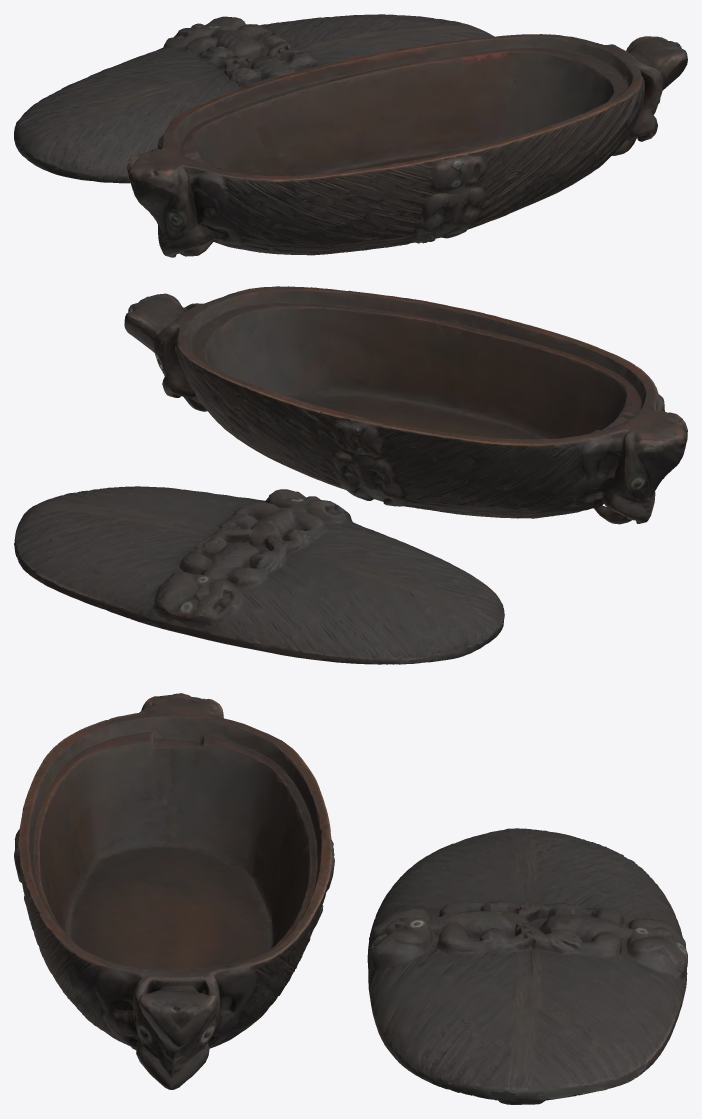
Rendered from preview.glb.
The picture shows the model from 3 angles, top to bottom: view 1: azimuth 30°, elevation 25°; view 2: azimuth 150°, elevation 25°; view 3: azimuth 270°, elevation 25°; orthographic projection. The views are drawn at different scales.
Visible parts, largest first — view 1: ADVIMG_1979_206_1439ab_MaoriBox_Lid_n3d; view 2: ADVIMG_1979_206_1439ab_MaoriBox_Lid_n3d; view 3: ADVIMG_1979_206_1439ab_MaoriBox_Lid_n3d.
Boxes of the visible parts, box(x1,y1,x2,y2) form: ADVIMG_1979_206_1439ab_MaoriBox_Lid_n3d: box(14, 14, 687, 257); ADVIMG_1979_206_1439ab_MaoriBox_Lid_n3d: box(14, 286, 687, 664); ADVIMG_1979_206_1439ab_MaoriBox_Lid_n3d: box(14, 693, 687, 1104).
Bounding box in the file's own units: 0.5723 × 0.1209 × 0.517.
Materials: 1 (1 with a texture image).
